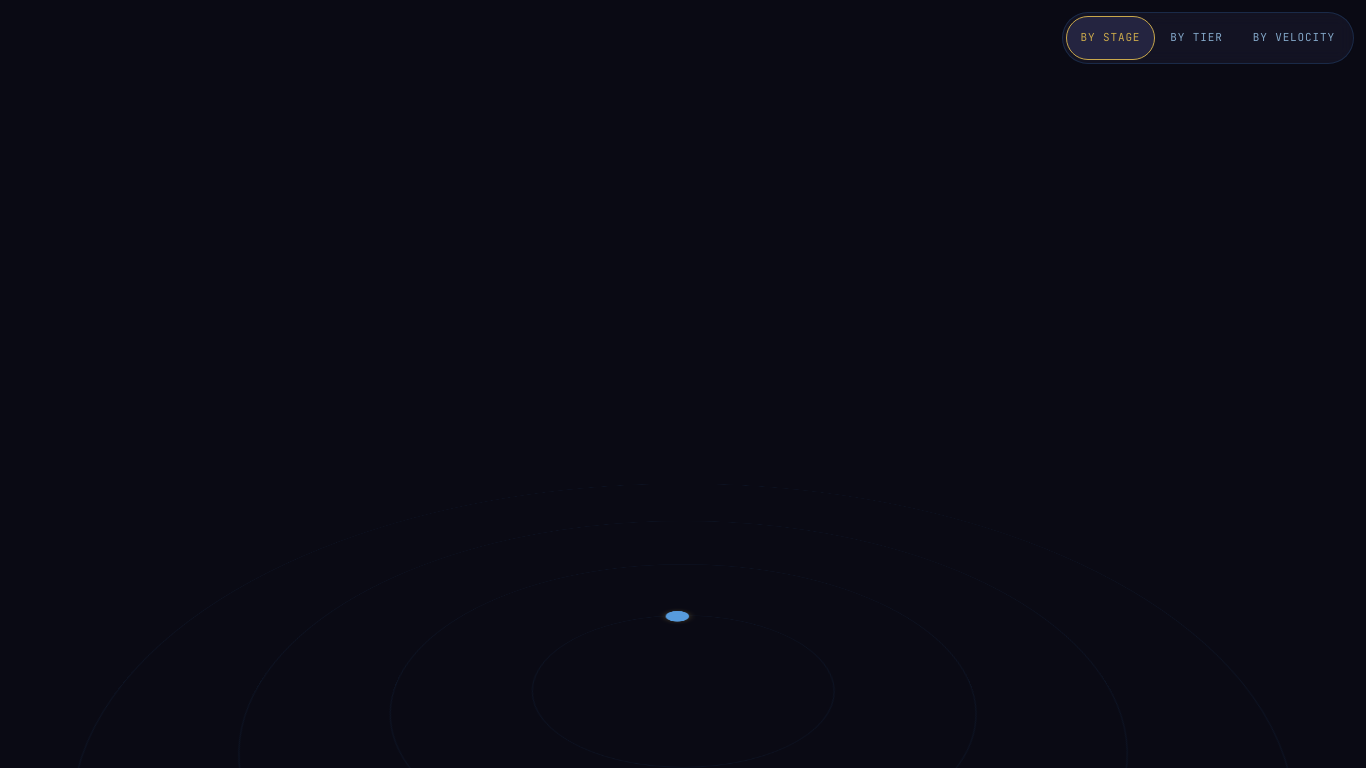
Scenario: Orrery — open via planet click › clicking a planet opens the detail dialog
What coordinates should you click on to do the following:
click the button named "Analyst at Acme, applied"
I would click on:
 (678, 616)
Its box is [666,611,689,622].
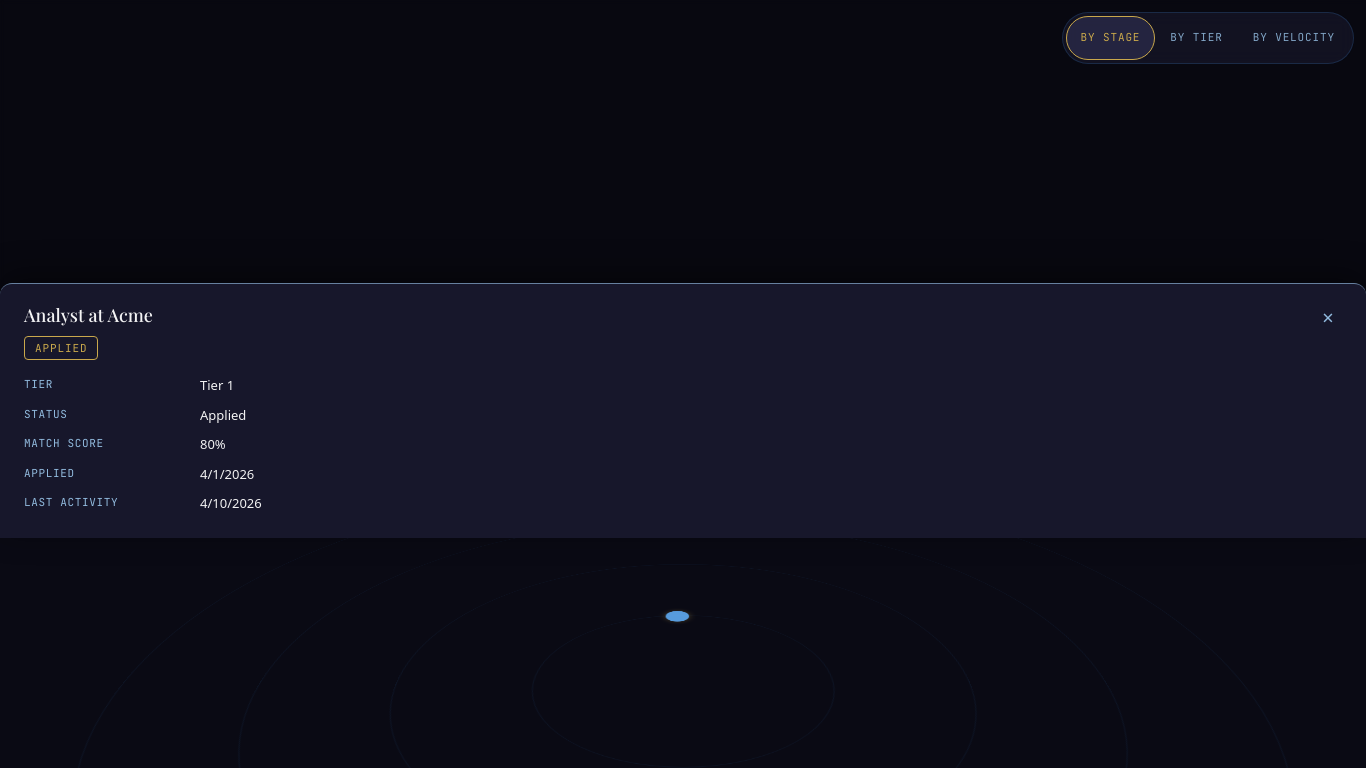
Expected: the dialog is shown, [0,283,1365,538]
